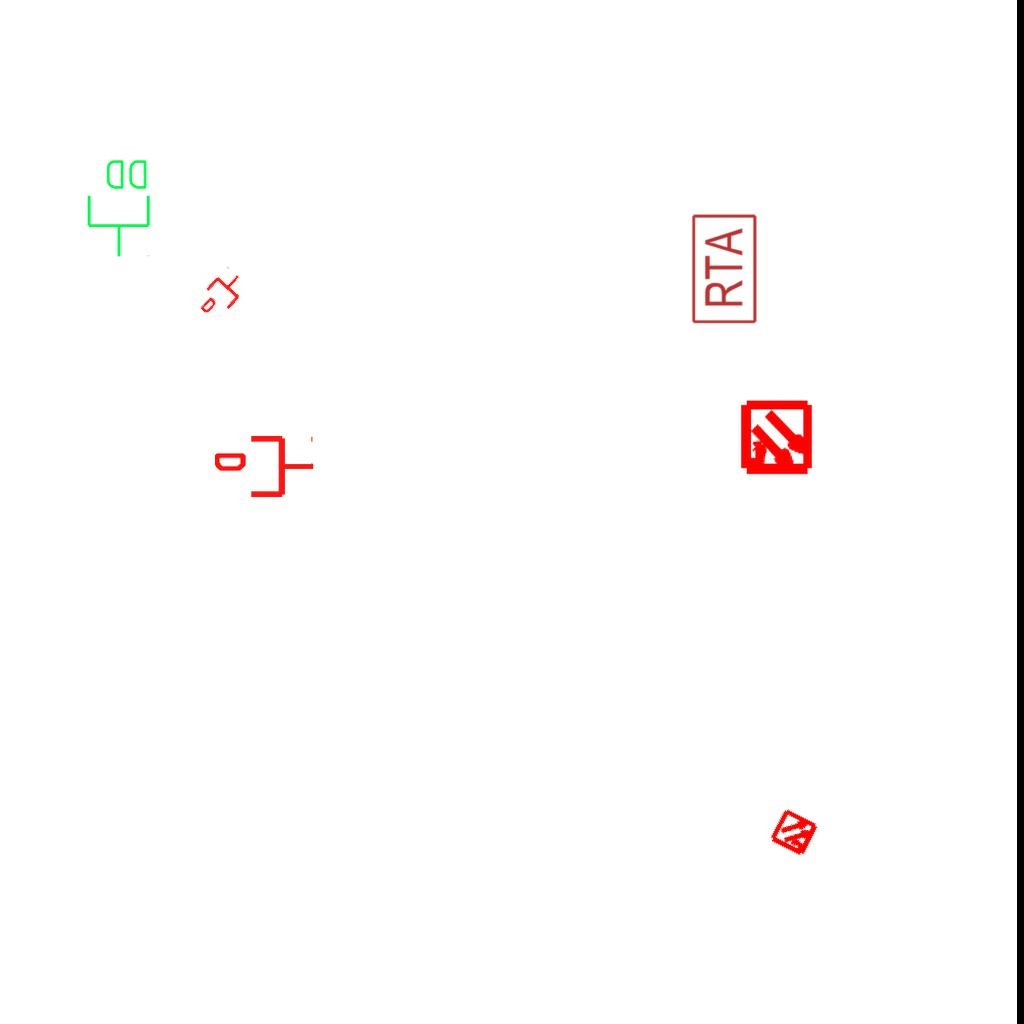Datenanschluss_einfach: (215, 432, 315, 501), (192, 264, 252, 324)
Datenanschluss_zweifach: (85, 156, 154, 259)
OT_Multisensormelder_(Kombination_RMO_WMD): (720, 383, 833, 496), (757, 795, 833, 871)
Ruf-und_Abstelltaster: (690, 213, 759, 327)
